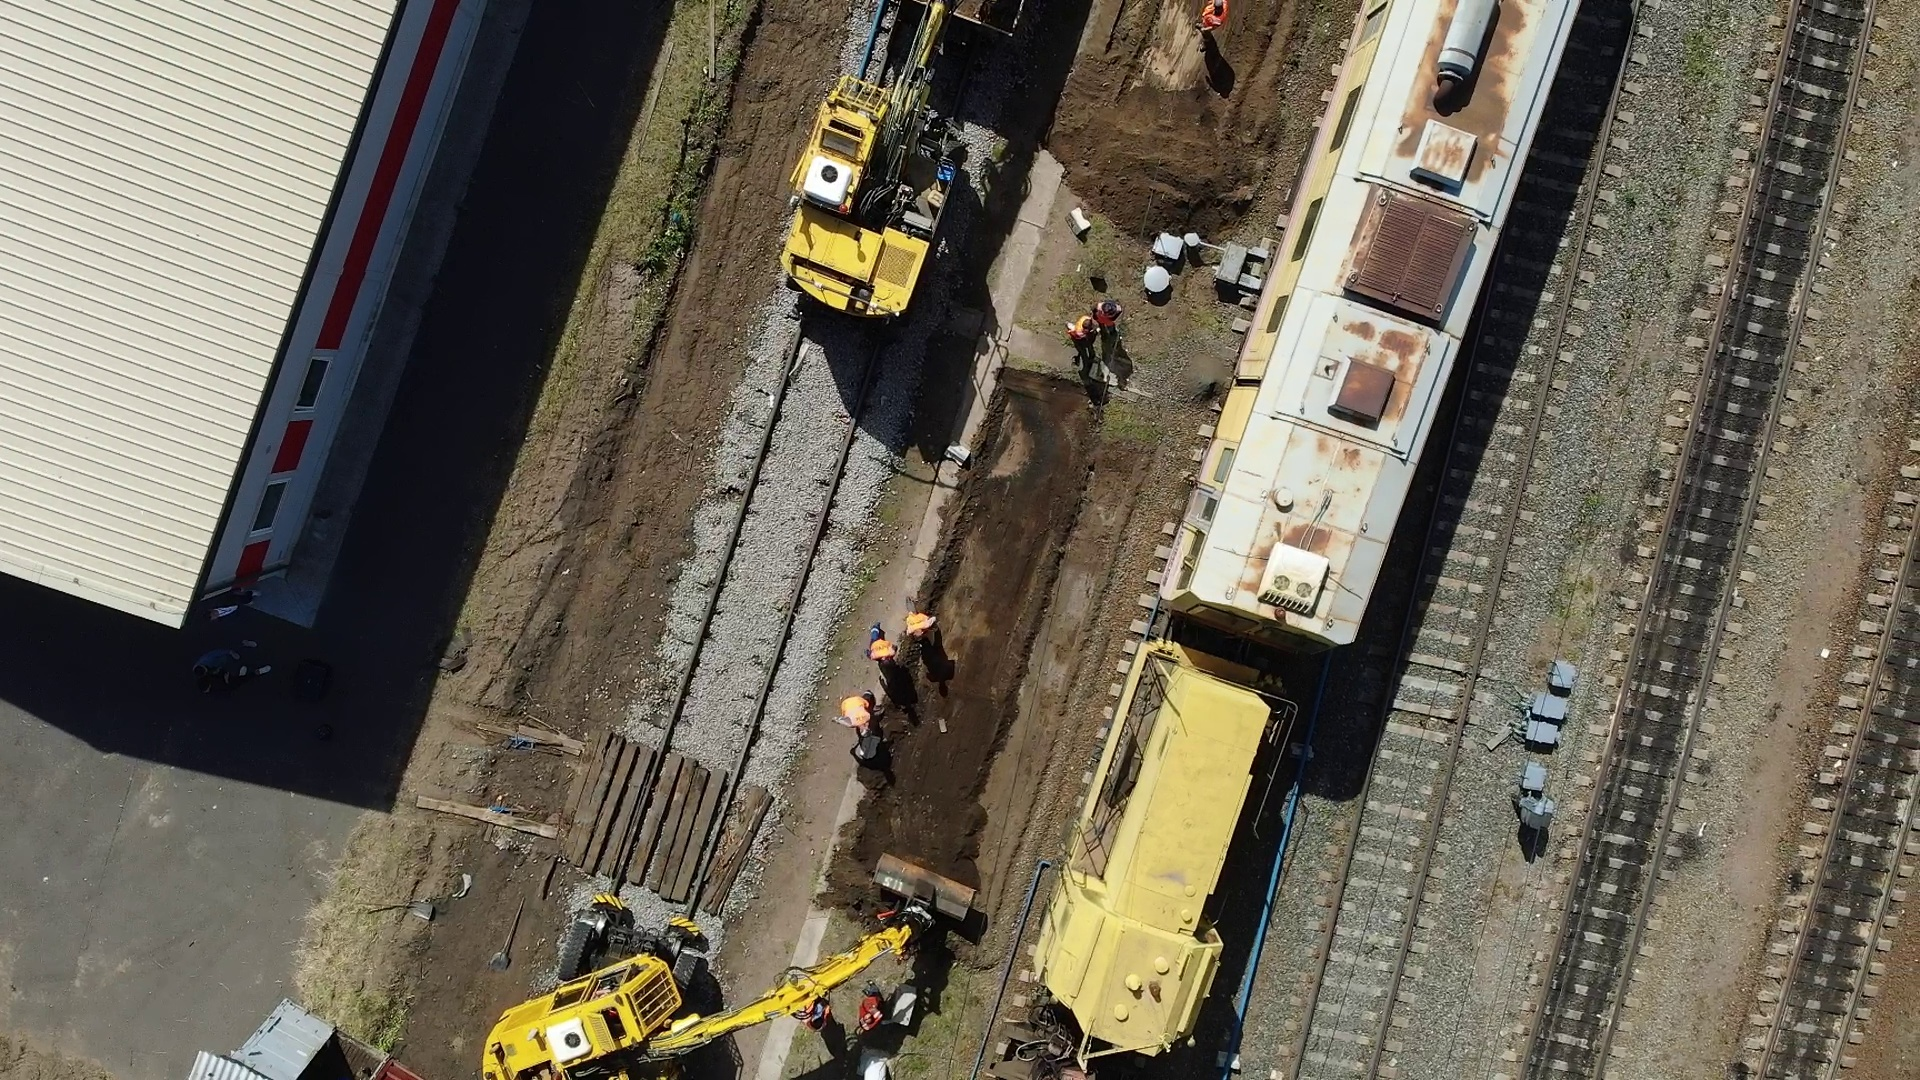kjtv: (489, 911, 774, 1080), (781, 76, 957, 324)
